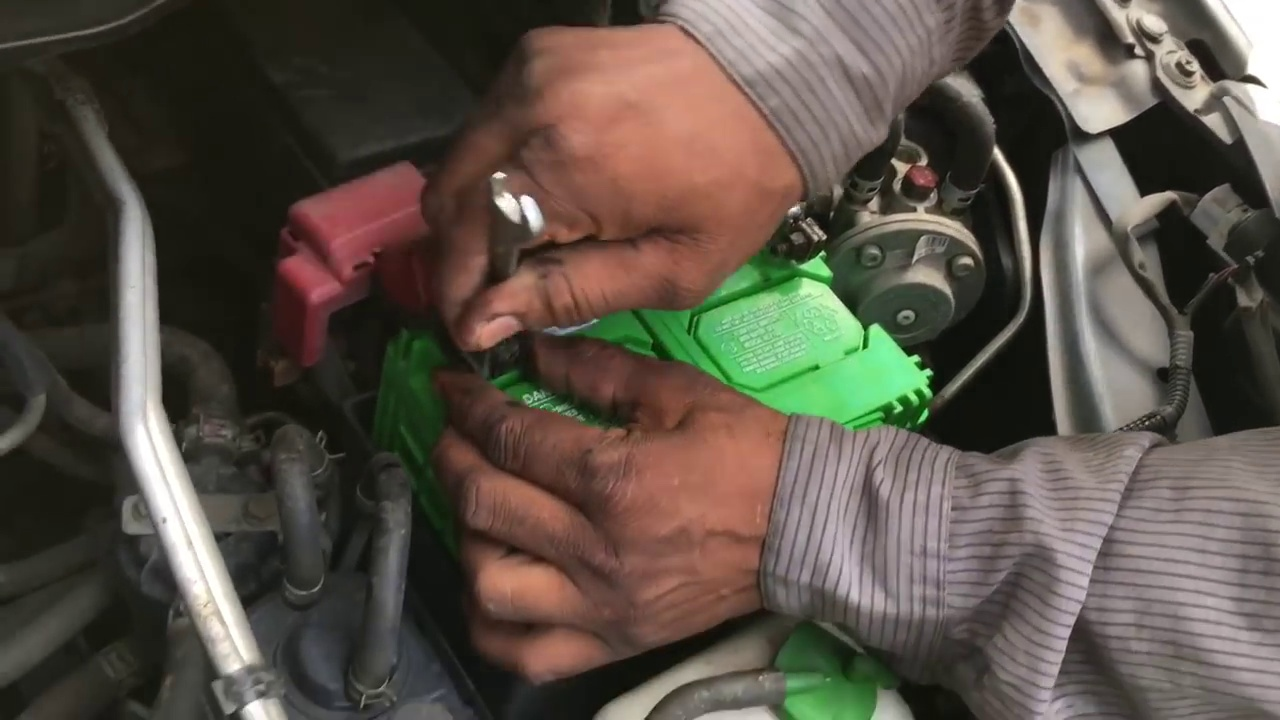battery: (383, 215, 934, 480)
pos_touched: (326, 178, 566, 455)
